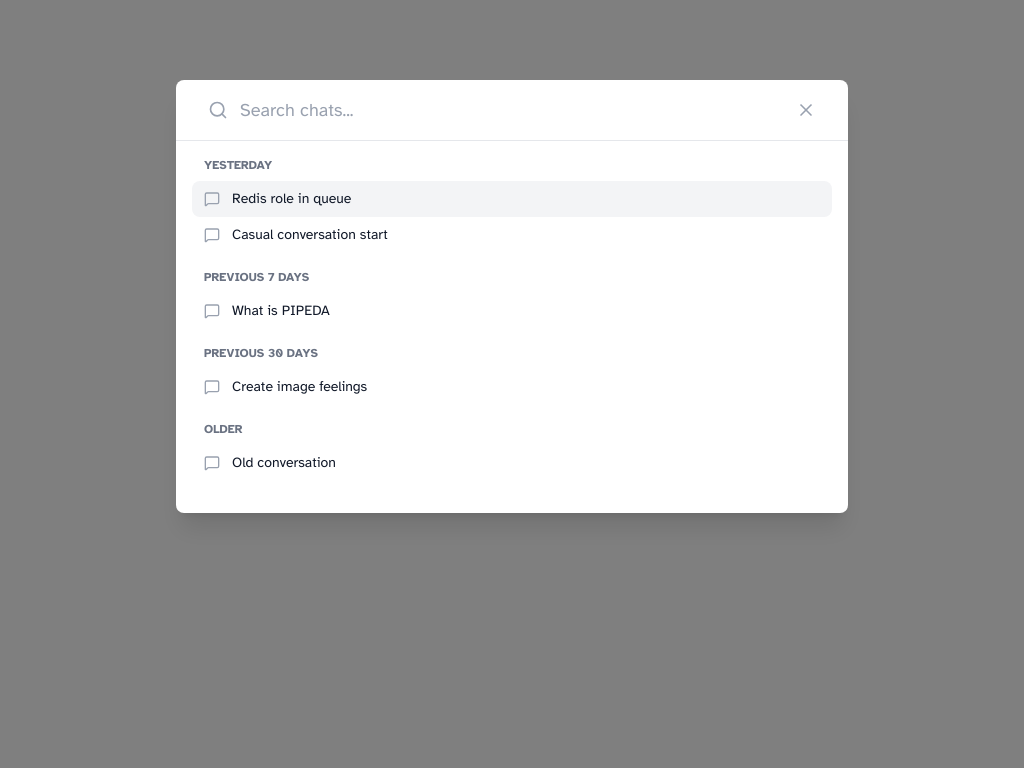
ConversationSearchModal › Search Functionality › filters conversations by title
Type "PIPEDA" into the field with placeholder "Search chats..." at (512, 110), box [200,96,824,124]
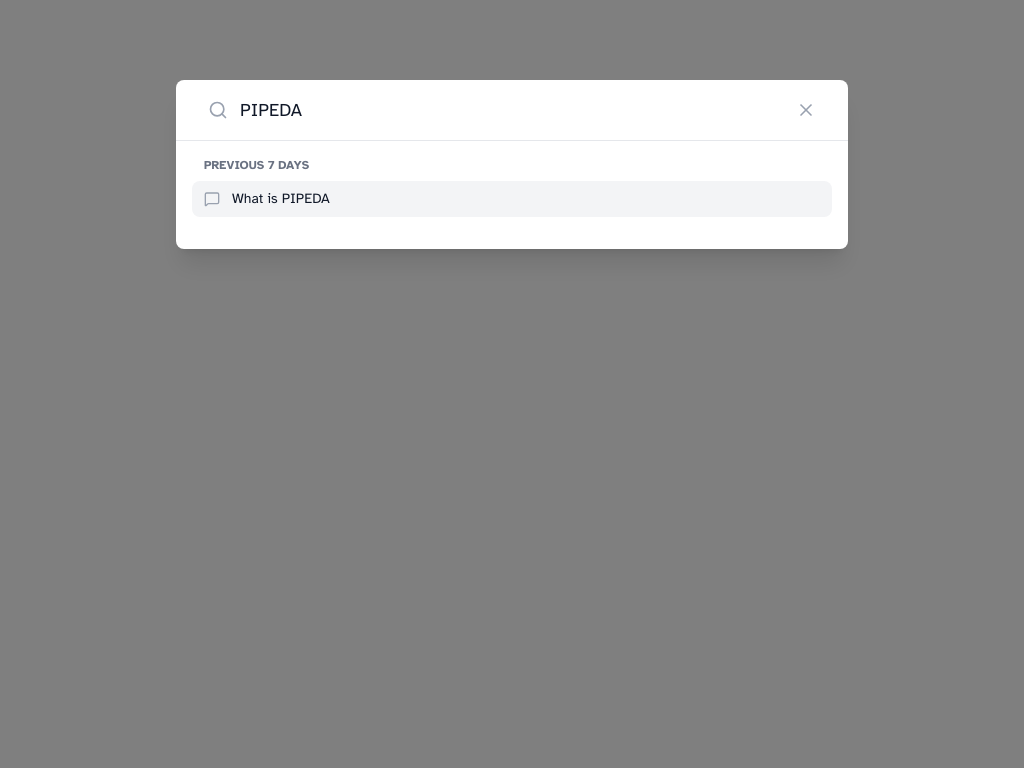
Expected: the text "What is PIPEDA" is shown, [232,190,330,207]
Now the button "Redis role in queue" is gone
